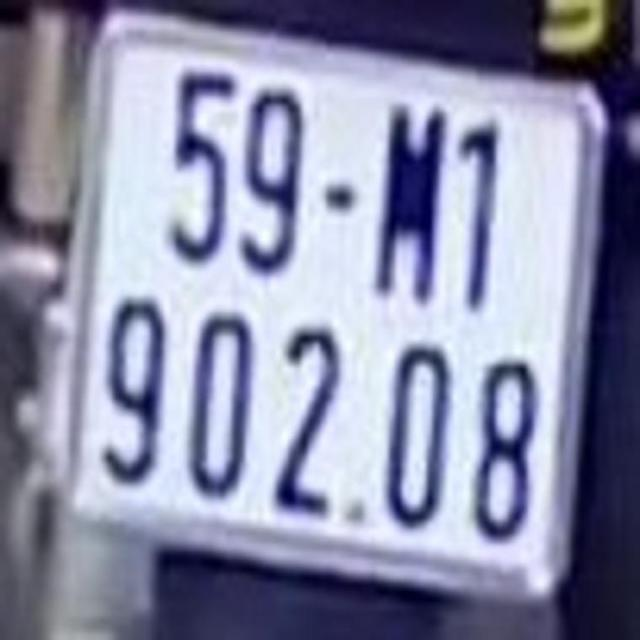0: (382, 338, 451, 530), (187, 307, 253, 501)
1: (456, 116, 502, 313)
2: (271, 317, 339, 518)
5: (166, 64, 234, 264)
8: (472, 354, 536, 543)
9: (240, 84, 304, 275), (100, 296, 164, 485)
M: (378, 97, 445, 306)
